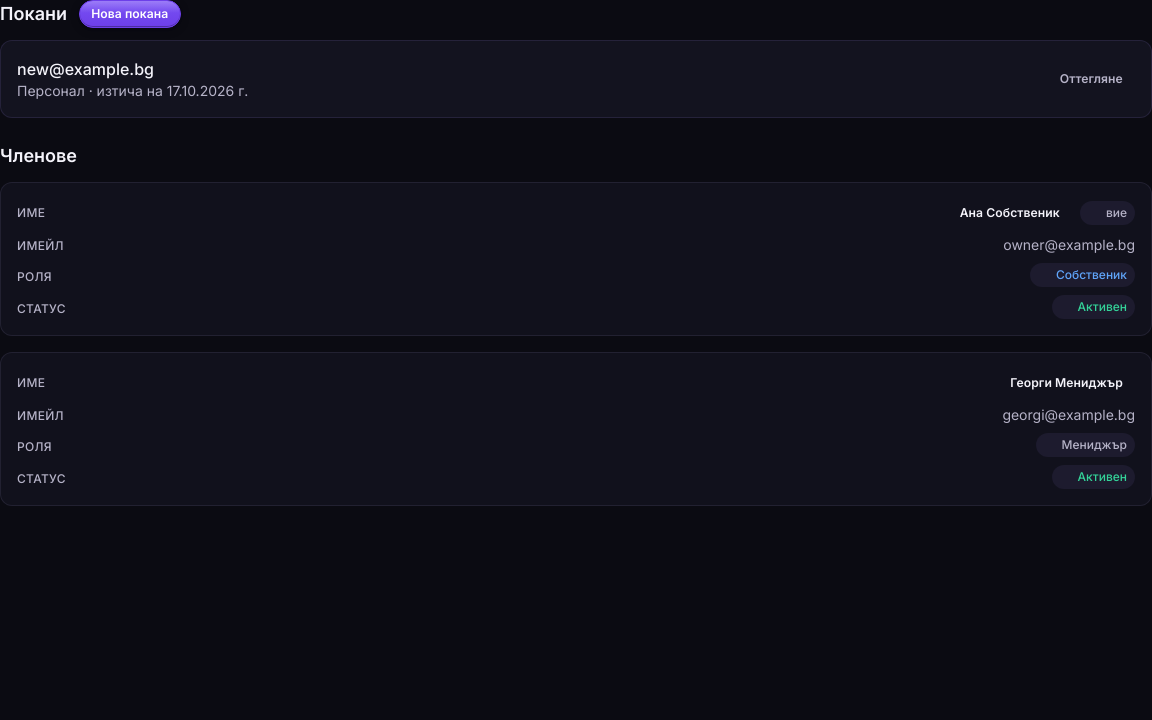
Scenario: StaffBoard › a locked member (yourself) opens to the reason and no controls
Click the button "Ана Собственик" at (1010, 213), box [948, 199, 1072, 227]
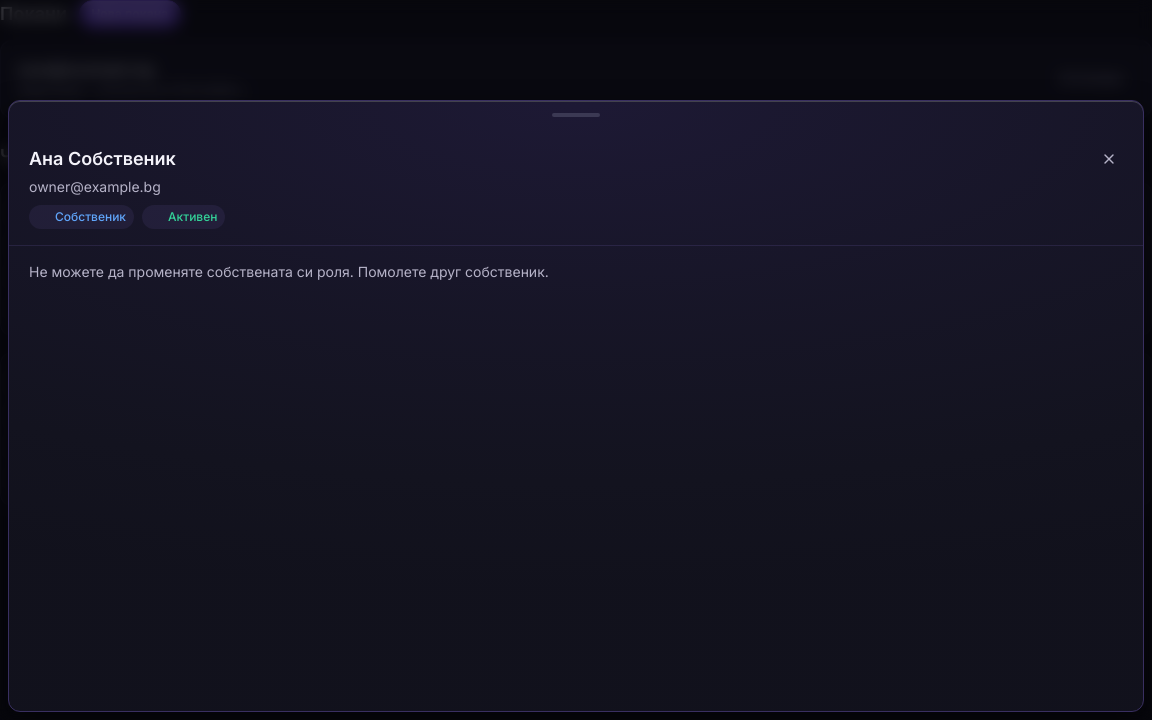
Result: the dialog shows "Не можете да променяте собствената си роля. Помолете друг собственик." at [29, 263, 549, 280]
